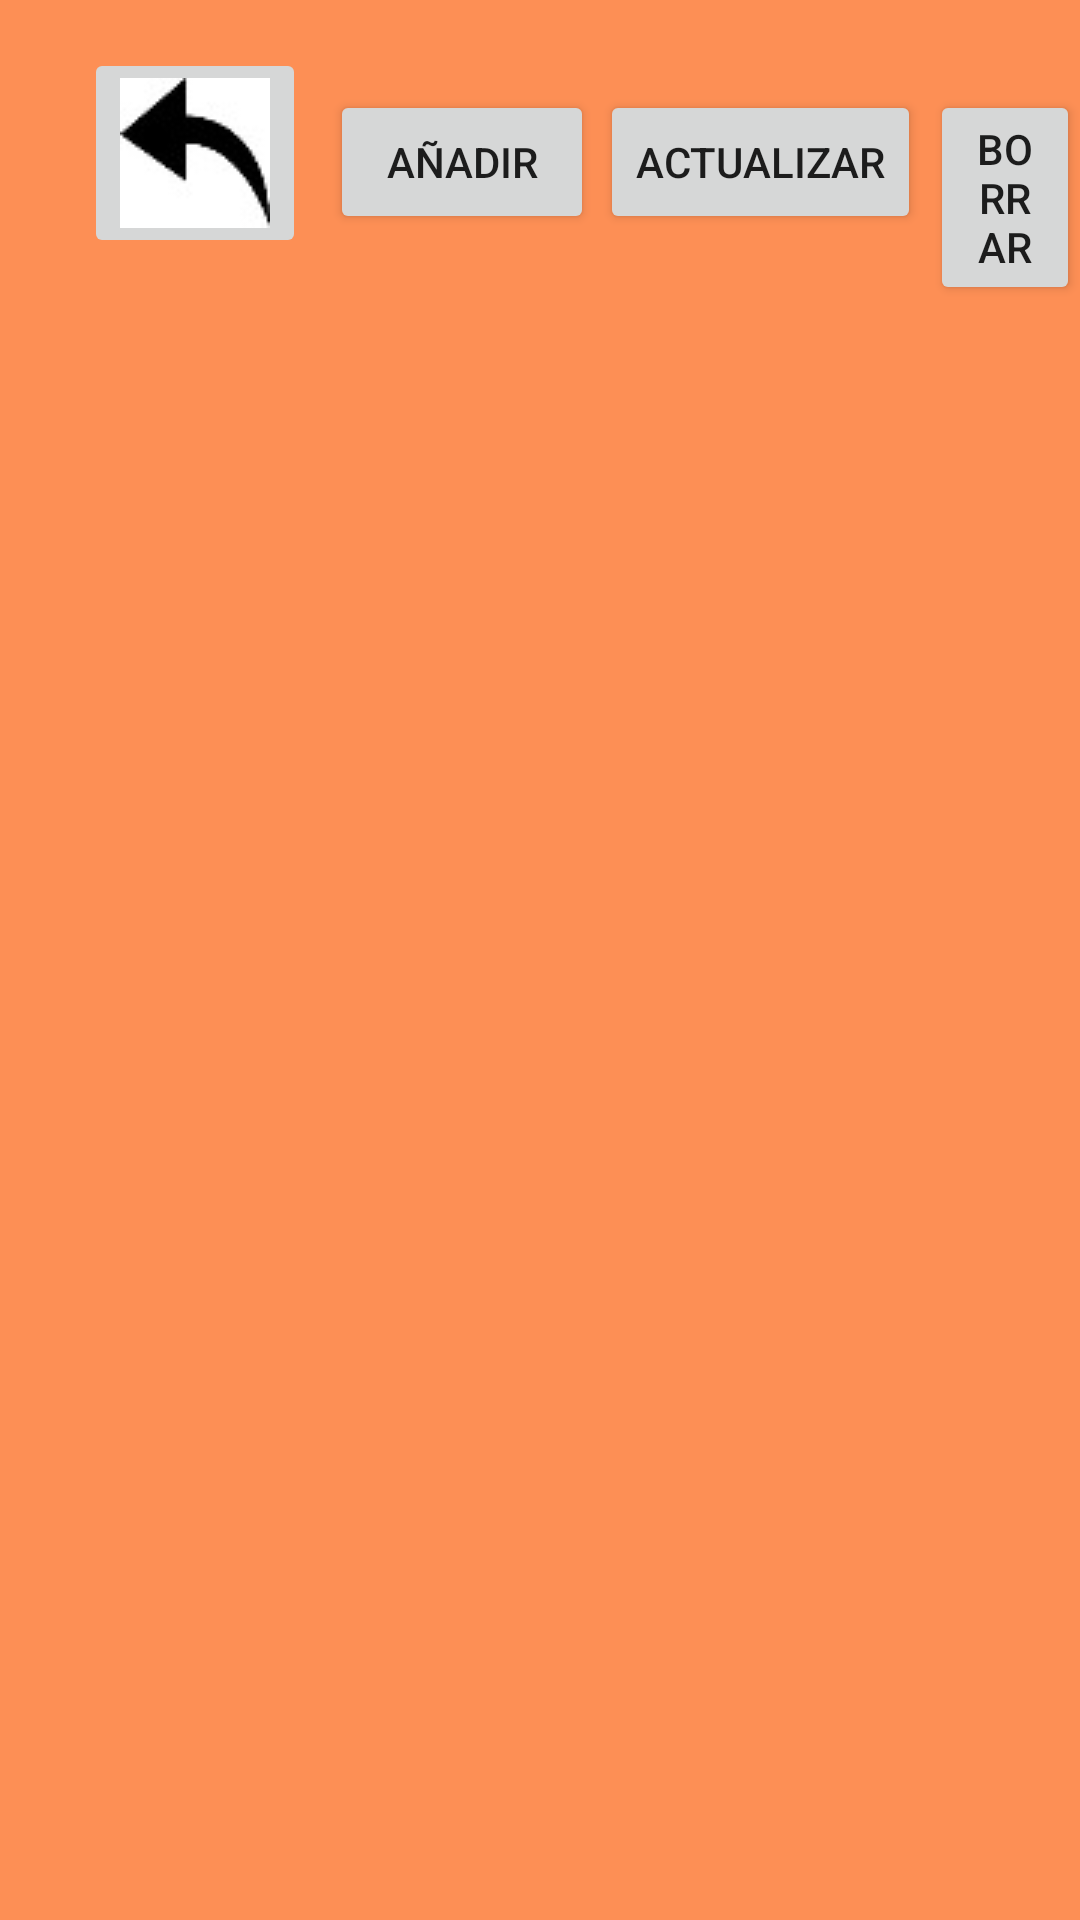

Icon click points for this 1080px×1920px phone screenshot, format (x,y):
volver: (195,153)
